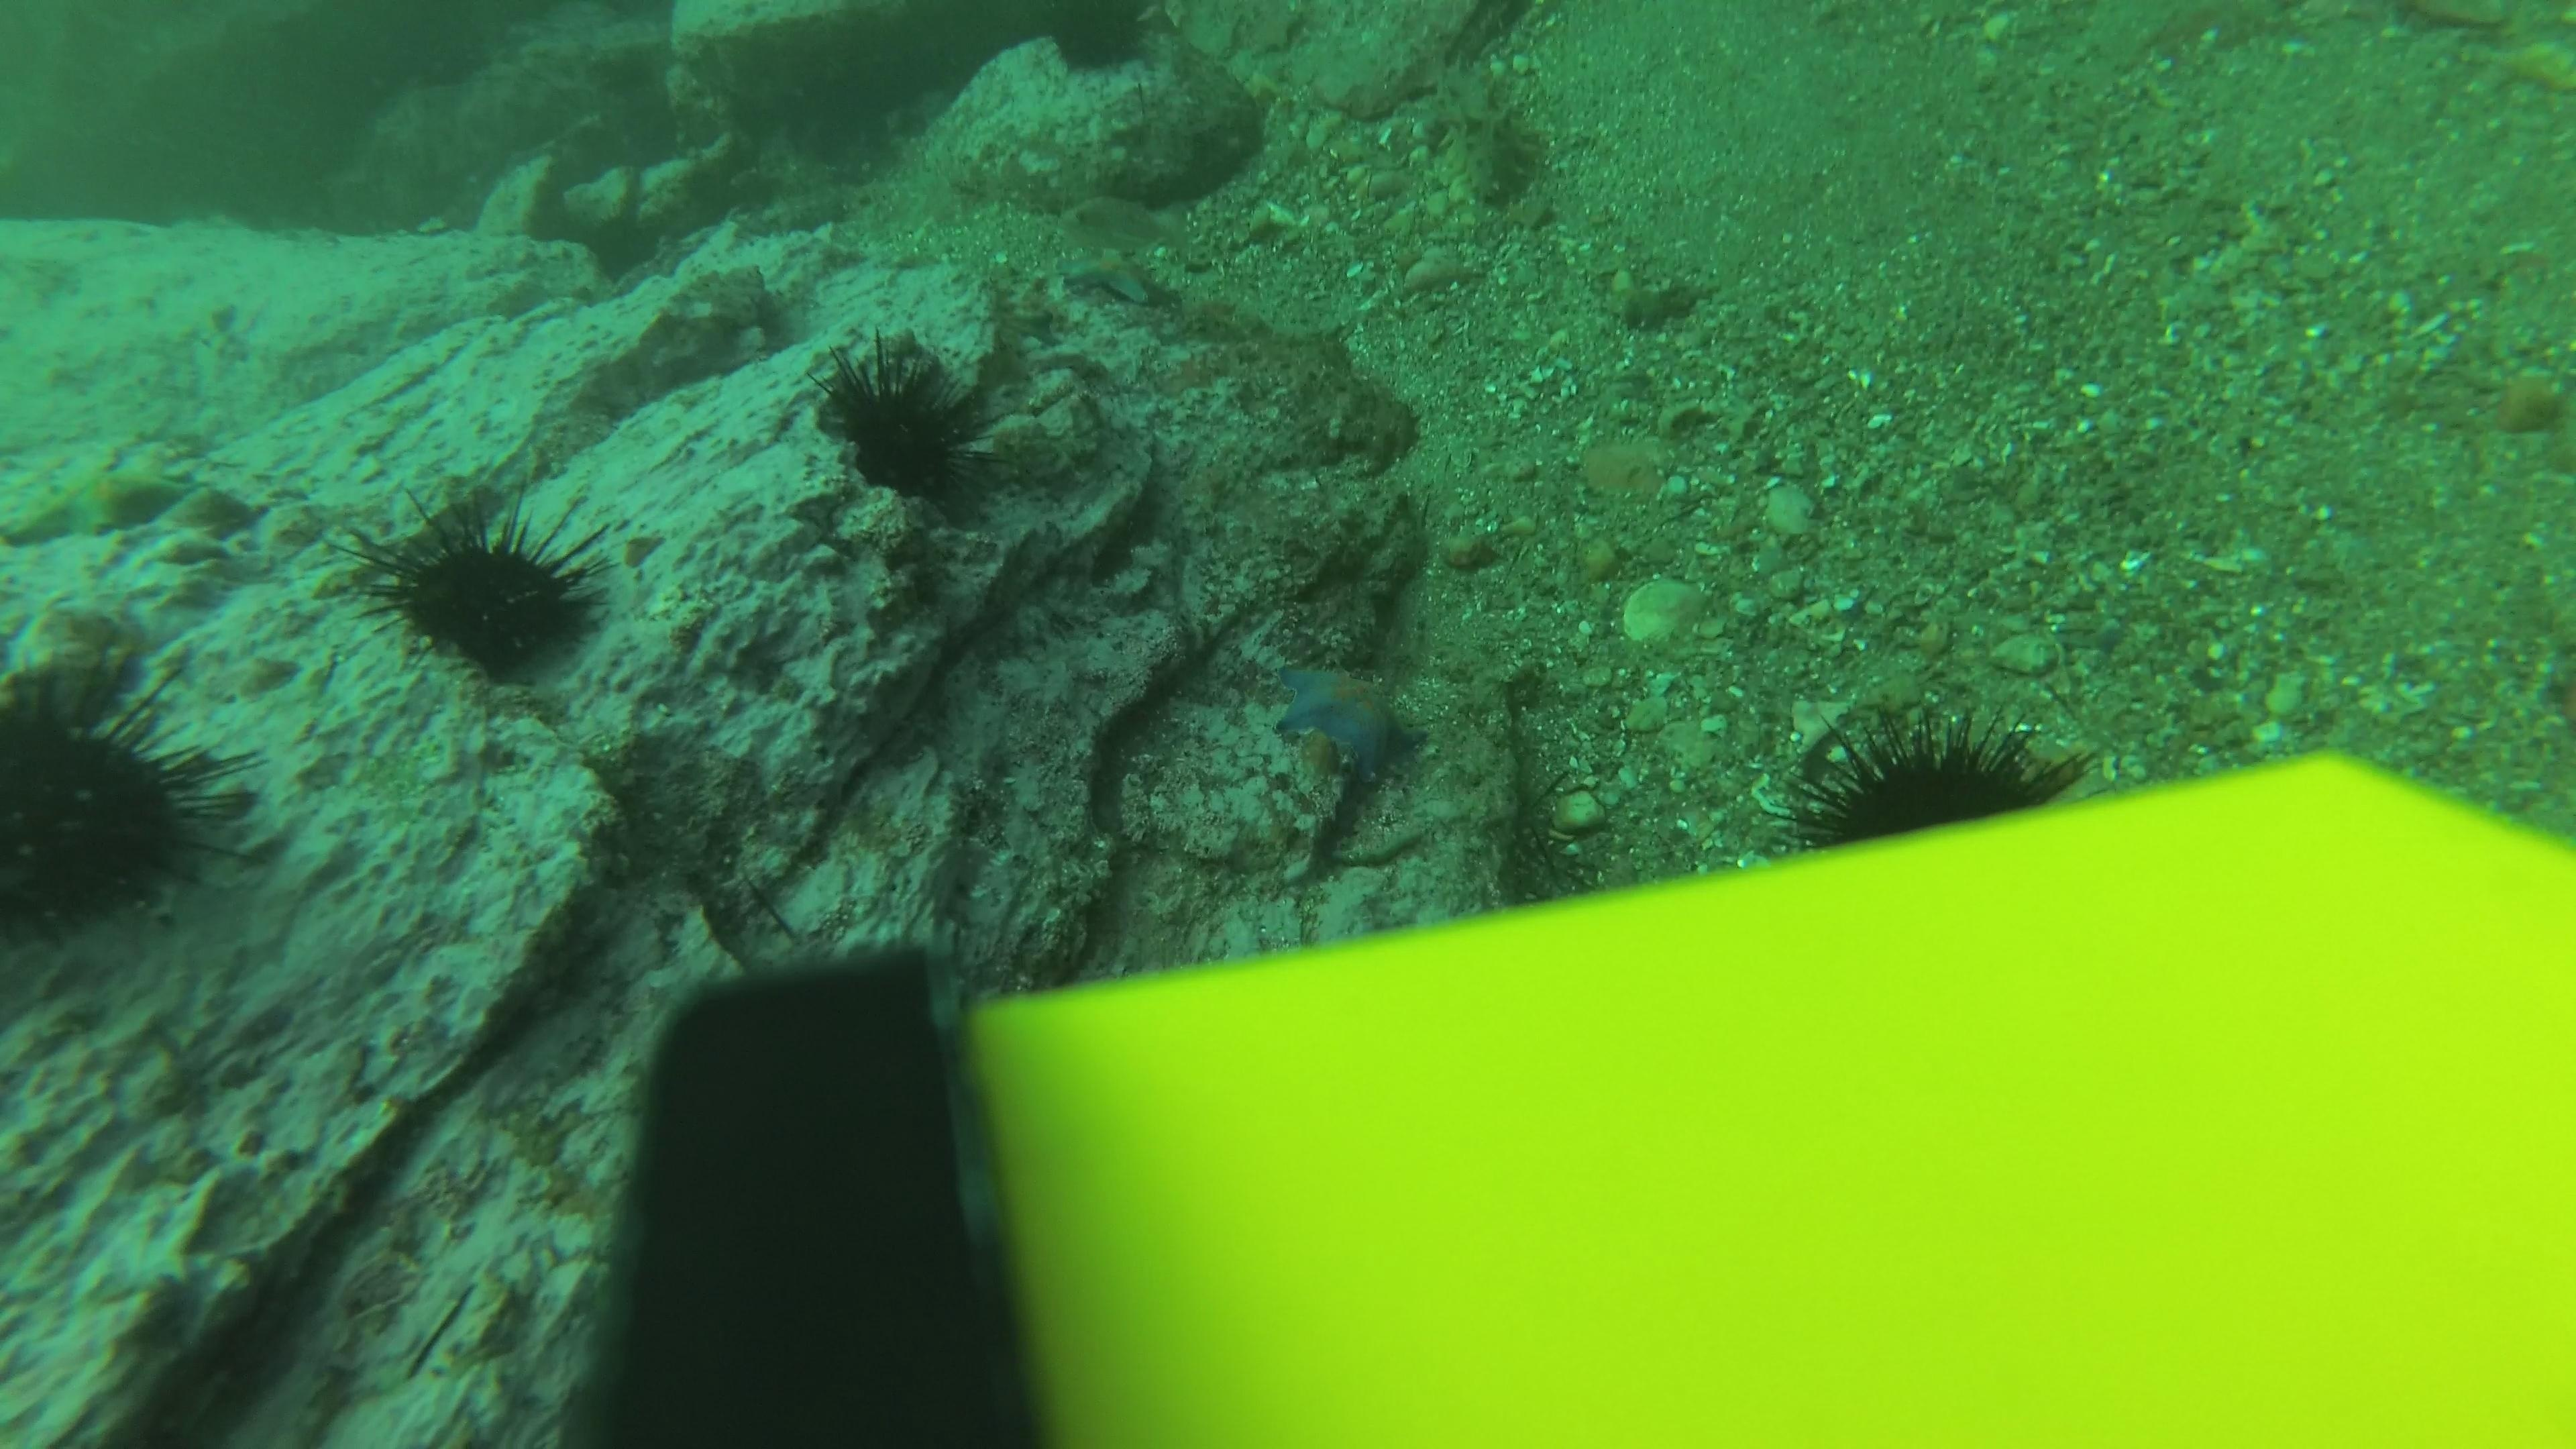echinus: (2, 642, 253, 941), (345, 479, 614, 685), (1776, 706, 2089, 847), (807, 329, 1000, 513), (1031, 0, 1164, 78)
holothurian: (1433, 58, 1553, 221)
starfish: (1265, 653, 1428, 784), (4, 460, 209, 550), (1053, 246, 1168, 308)
